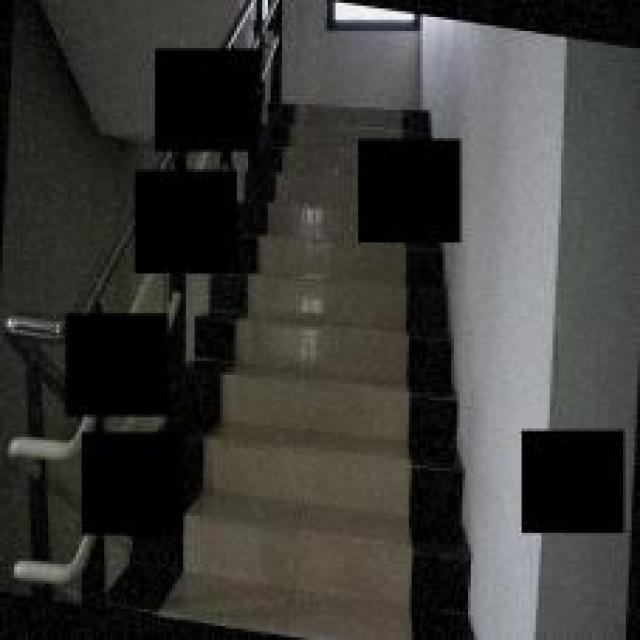upstair: (254, 265, 462, 603)
